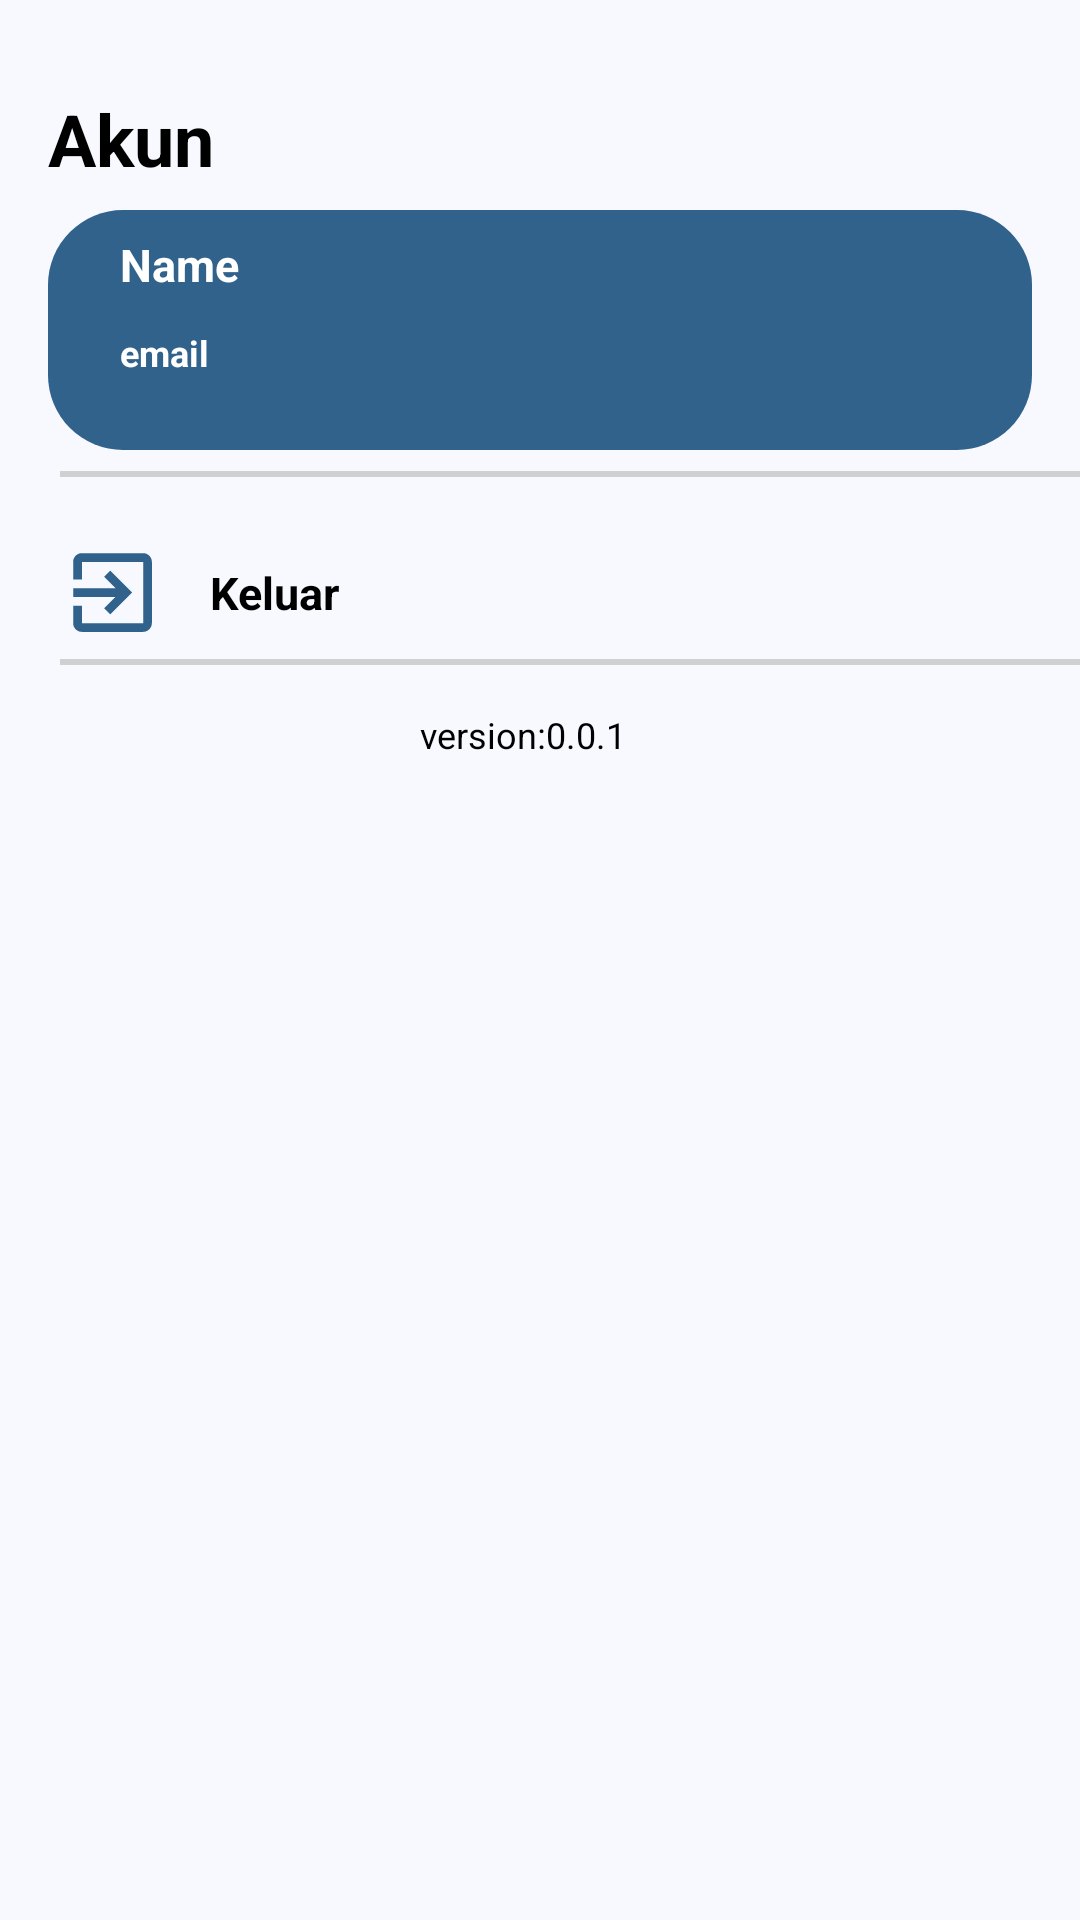

Named icons in this screenshot (1080*1920) and their centers, (x=x, y=y):
exit: (x=112, y=592)
